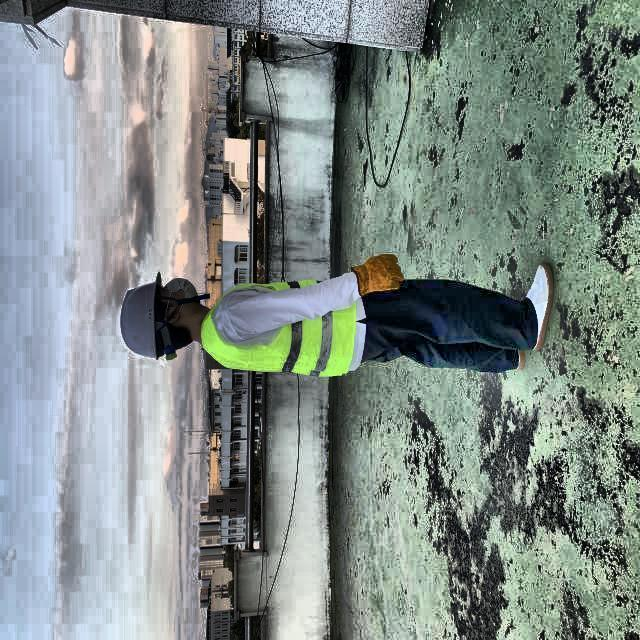safety_helmet: (110, 264, 164, 366)
safety_jacket: (191, 265, 359, 378)
